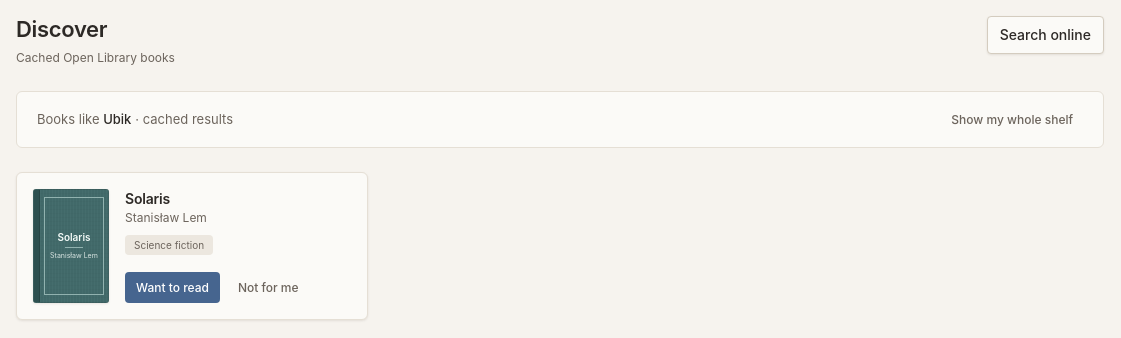
Test: books like one book › goes back to the whole shelf
Click the button "Show my whole shelf" at [1012, 119], box [941, 104, 1083, 135]
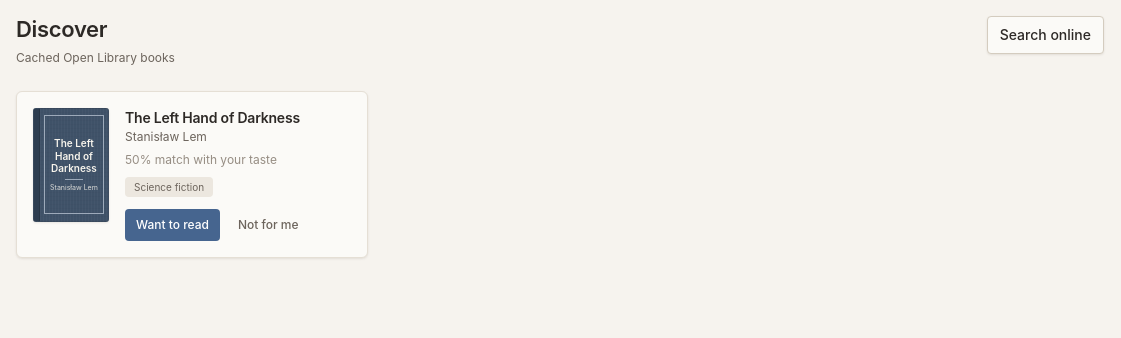
expect the text "The Left Hand of Darkness" is shown: met, box [49, 137, 99, 174]
